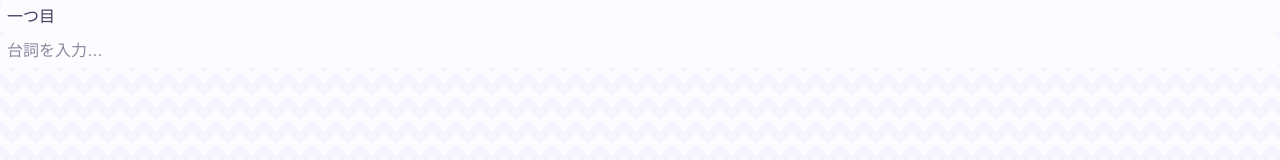
Test: EmojiTextArea simultaneous editing › keeps each dialogue editor history independent
The width and height of the screenshot is (1280, 160).
Clear the field labelled "一つ目". click: {"x": 640, "y": 17}
box: [0,0,1279,34]
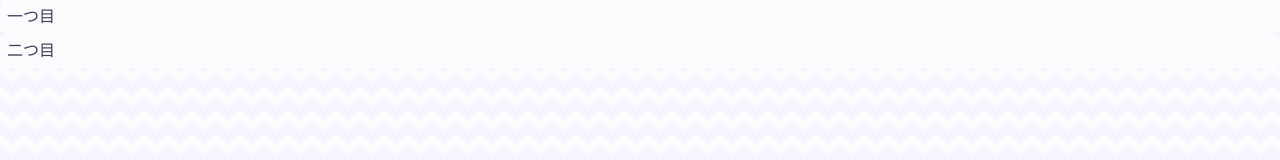
Press z in the field, box [0,34,1279,68]
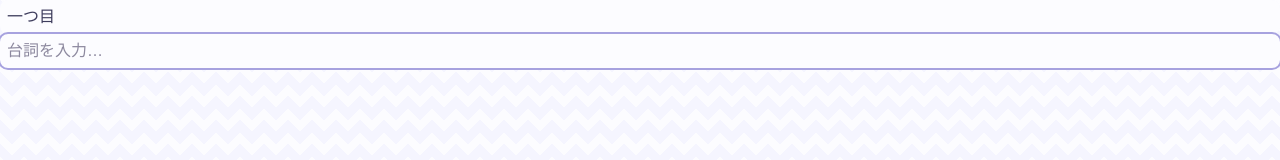
Expected: the field labelled "一つ目" is shown, [0,0,1279,34]
Now the 2nd field is empty, box [0,34,1279,68]
